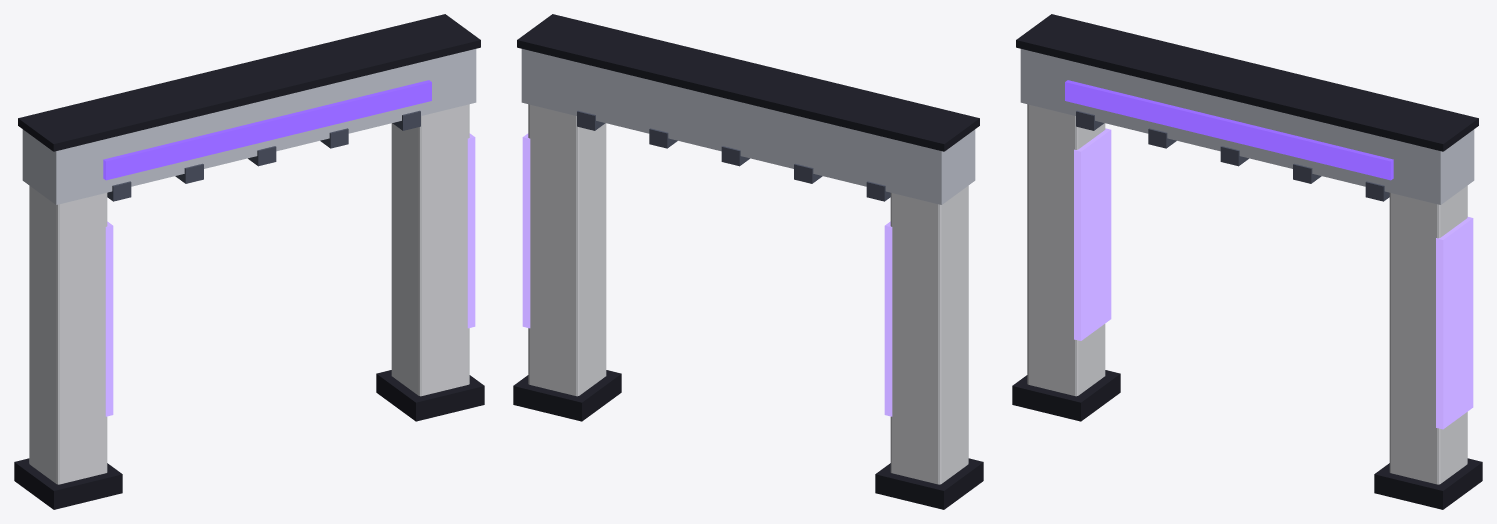
The model's file is city_arch.glb.
3 renders of one model, left to right at view 1: azimuth 30°, elevation 25°; view 2: azimuth 150°, elevation 25°; view 3: azimuth 330°, elevation 25°, orthographic.
Parts seen in each view (by area): view 1: city_arch; view 2: city_arch; view 3: city_arch.
Boxes of the visible parts, x1=… form: city_arch: x1=14, y1=14, x2=484, y2=509; city_arch: x1=513, y1=14, x2=983, y2=509; city_arch: x1=1012, y1=14, x2=1482, y2=509.
Size of the model in its own units: 11.9 by 9.6 by 1.9.
